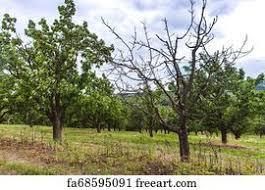tree: (106, 2, 242, 160), (6, 1, 119, 141), (181, 52, 251, 144), (76, 74, 118, 134)
